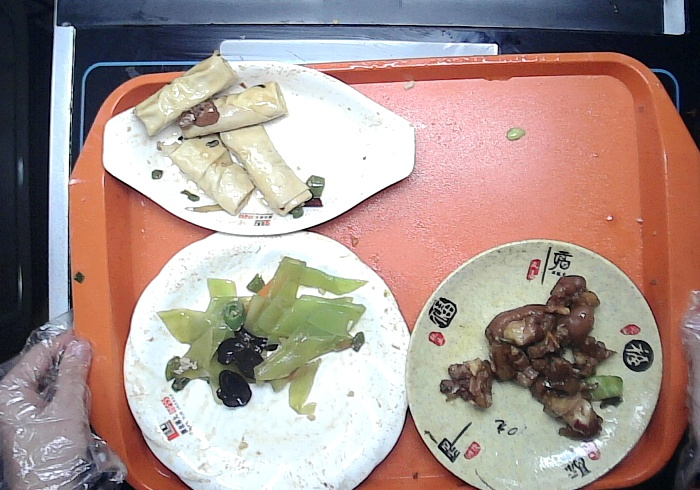NLDX-Bai_Zhe_Yuan_Pan: (118, 226, 416, 490)
NLDX-Fu_Zi_Yuan_Pan: (398, 234, 665, 488)
NLDX-Yu_Pan: (96, 58, 420, 240)
